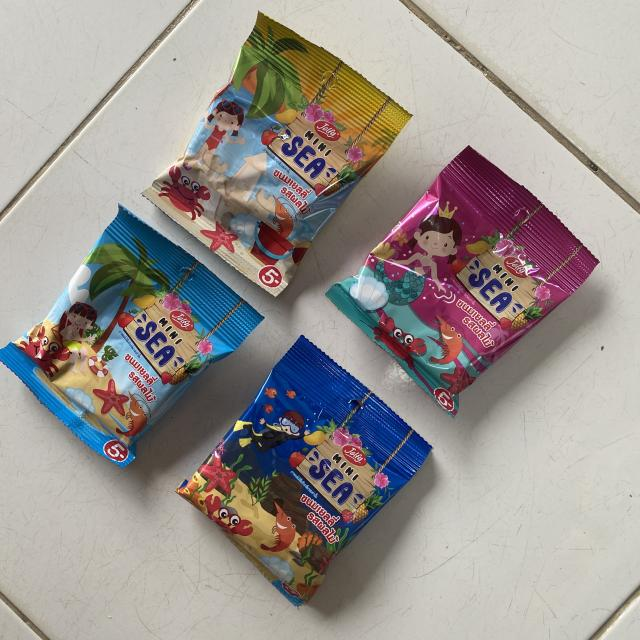plastik: (145, 12, 410, 295), (326, 146, 598, 416), (176, 336, 431, 606), (0, 206, 262, 466)
